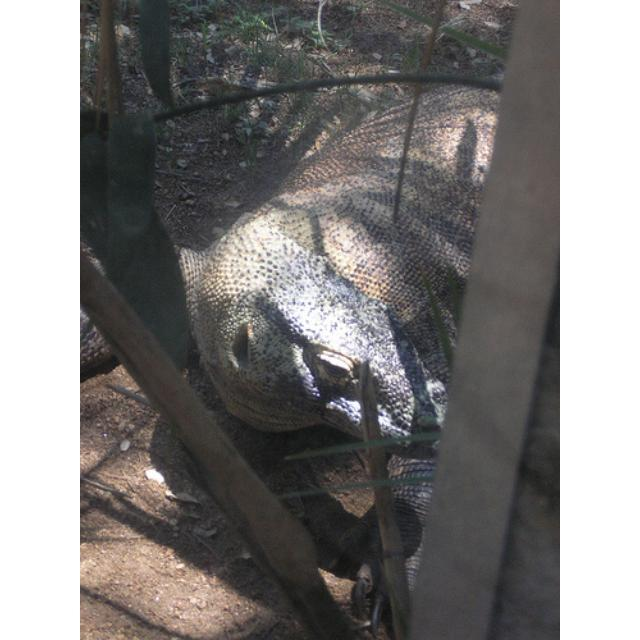KomodoDragon: (86, 1, 502, 456)
